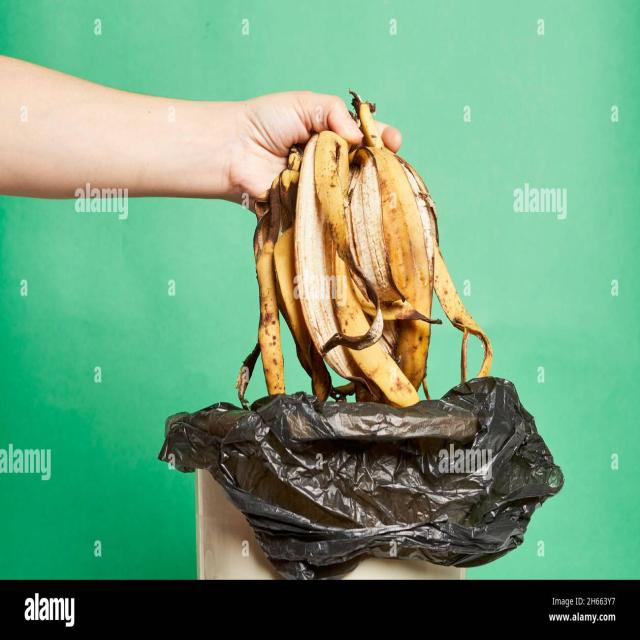banana_peel: (237, 48, 501, 408)
